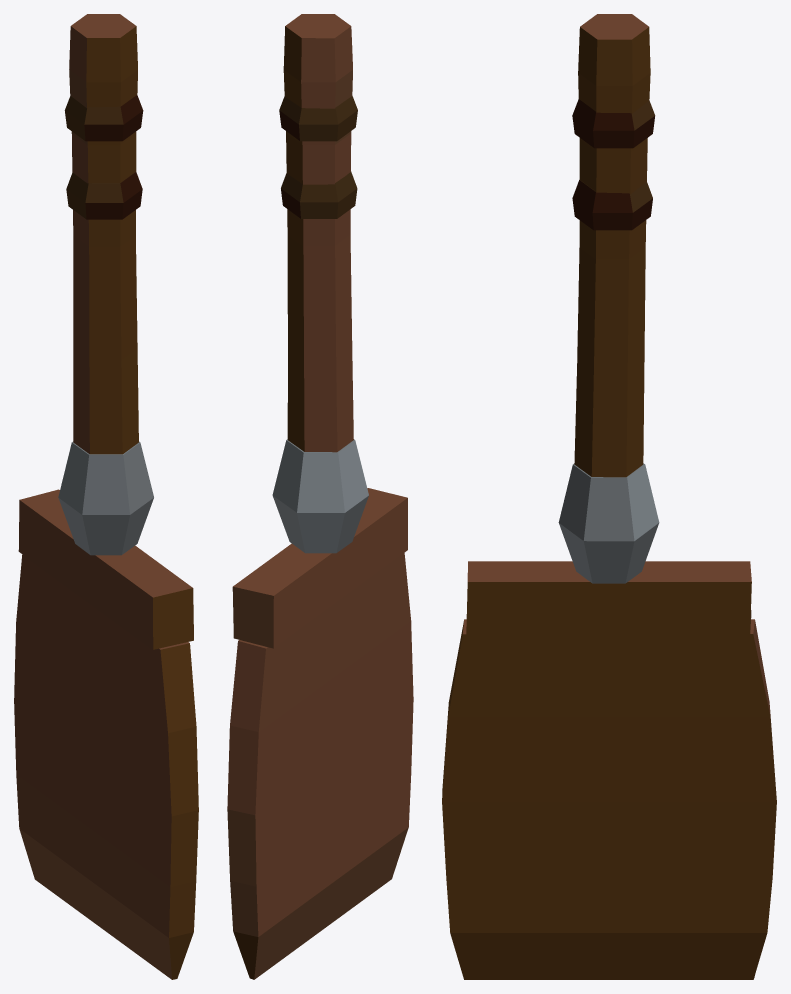
The model's file is shovel_b.glb.
3 renders of one model, left to right at view 1: azimuth 30°, elevation 25°; view 2: azimuth 150°, elevation 25°; view 3: azimuth 270°, elevation 25°, orthographic. The views are drawn at different scales.
Parts seen in each view (by area): view 1: shovel_blade, shovel_handle, shovel_collar, shovel_socket, shovel_grip; view 2: shovel_blade, shovel_handle, shovel_collar, shovel_socket, shovel_grip; view 3: shovel_blade, shovel_handle, shovel_collar, shovel_socket, shovel_grip.
Part boxes in pixels (<box>): shovel_blade: <box>14,554,198,979</box>; shovel_handle: <box>69,14,138,454</box>; shovel_collar: <box>18,489,193,649</box>; shovel_socket: <box>58,441,153,555</box>; shovel_grip: <box>64,95,143,219</box>; shovel_blade: <box>227,553,413,979</box>; shovel_handle: <box>283,14,353,452</box>; shovel_collar: <box>232,488,407,648</box>; shovel_socket: <box>272,439,368,553</box>; shovel_grip: <box>279,96,357,218</box>; shovel_blade: <box>442,619,776,979</box>; shovel_handle: <box>574,14,650,477</box>; shovel_collar: <box>466,561,751,636</box>; shovel_socket: <box>558,463,659,583</box>; shovel_grip: <box>572,99,655,230</box>.
Size of the model in its own units: 0.0522 by 0.622 by 0.1984.
